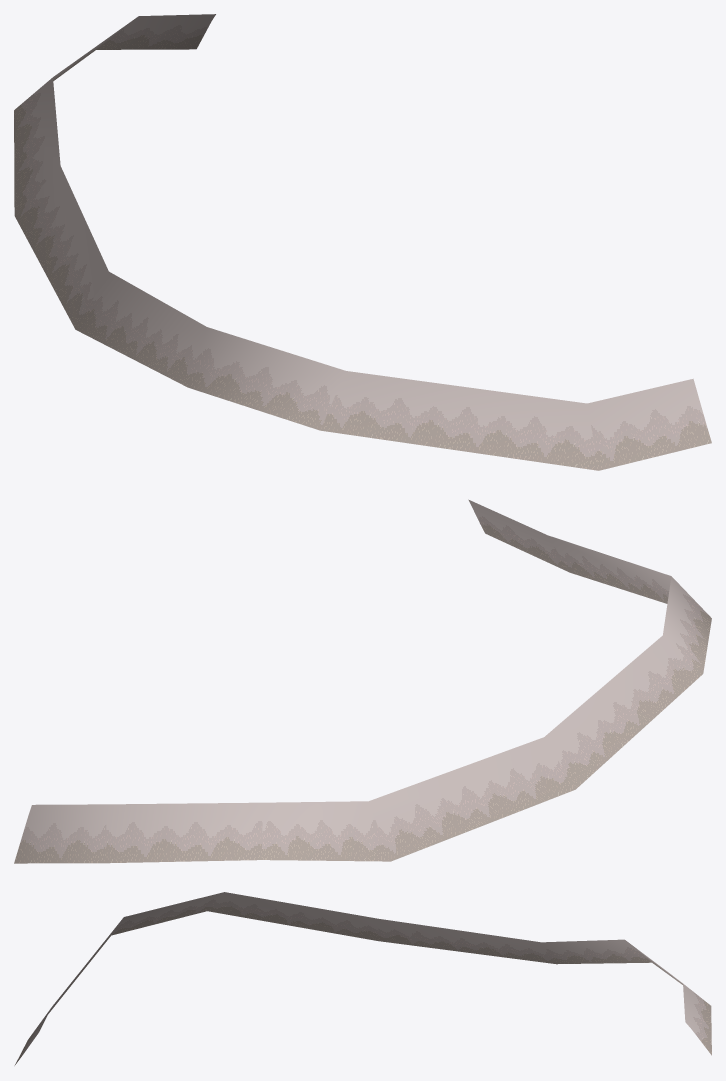
The model's file is kd_stage_1364a3_7_23_bounded.glb.
3 renders of one model, top to bottom at view 1: azimuth 30°, elevation 25°; view 2: azimuth 150°, elevation 25°; view 3: azimuth 270°, elevation 25°, orthographic. The views are drawn at different scales.
Parts seen in each view (by area): view 1: kd_stage_1364a3_7_23_bounded; view 2: kd_stage_1364a3_7_23_bounded; view 3: kd_stage_1364a3_7_23_bounded.
Boxes of the visible parts, x1=… form: kd_stage_1364a3_7_23_bounded: x1=14, y1=14, x2=711, y2=470; kd_stage_1364a3_7_23_bounded: x1=14, y1=499, x2=711, y2=863; kd_stage_1364a3_7_23_bounded: x1=14, y1=892, x2=711, y2=1065.
Size of the model in its own units: 70.78 by 17.37 by 166.
Materials: 1 (1 with a texture image).
